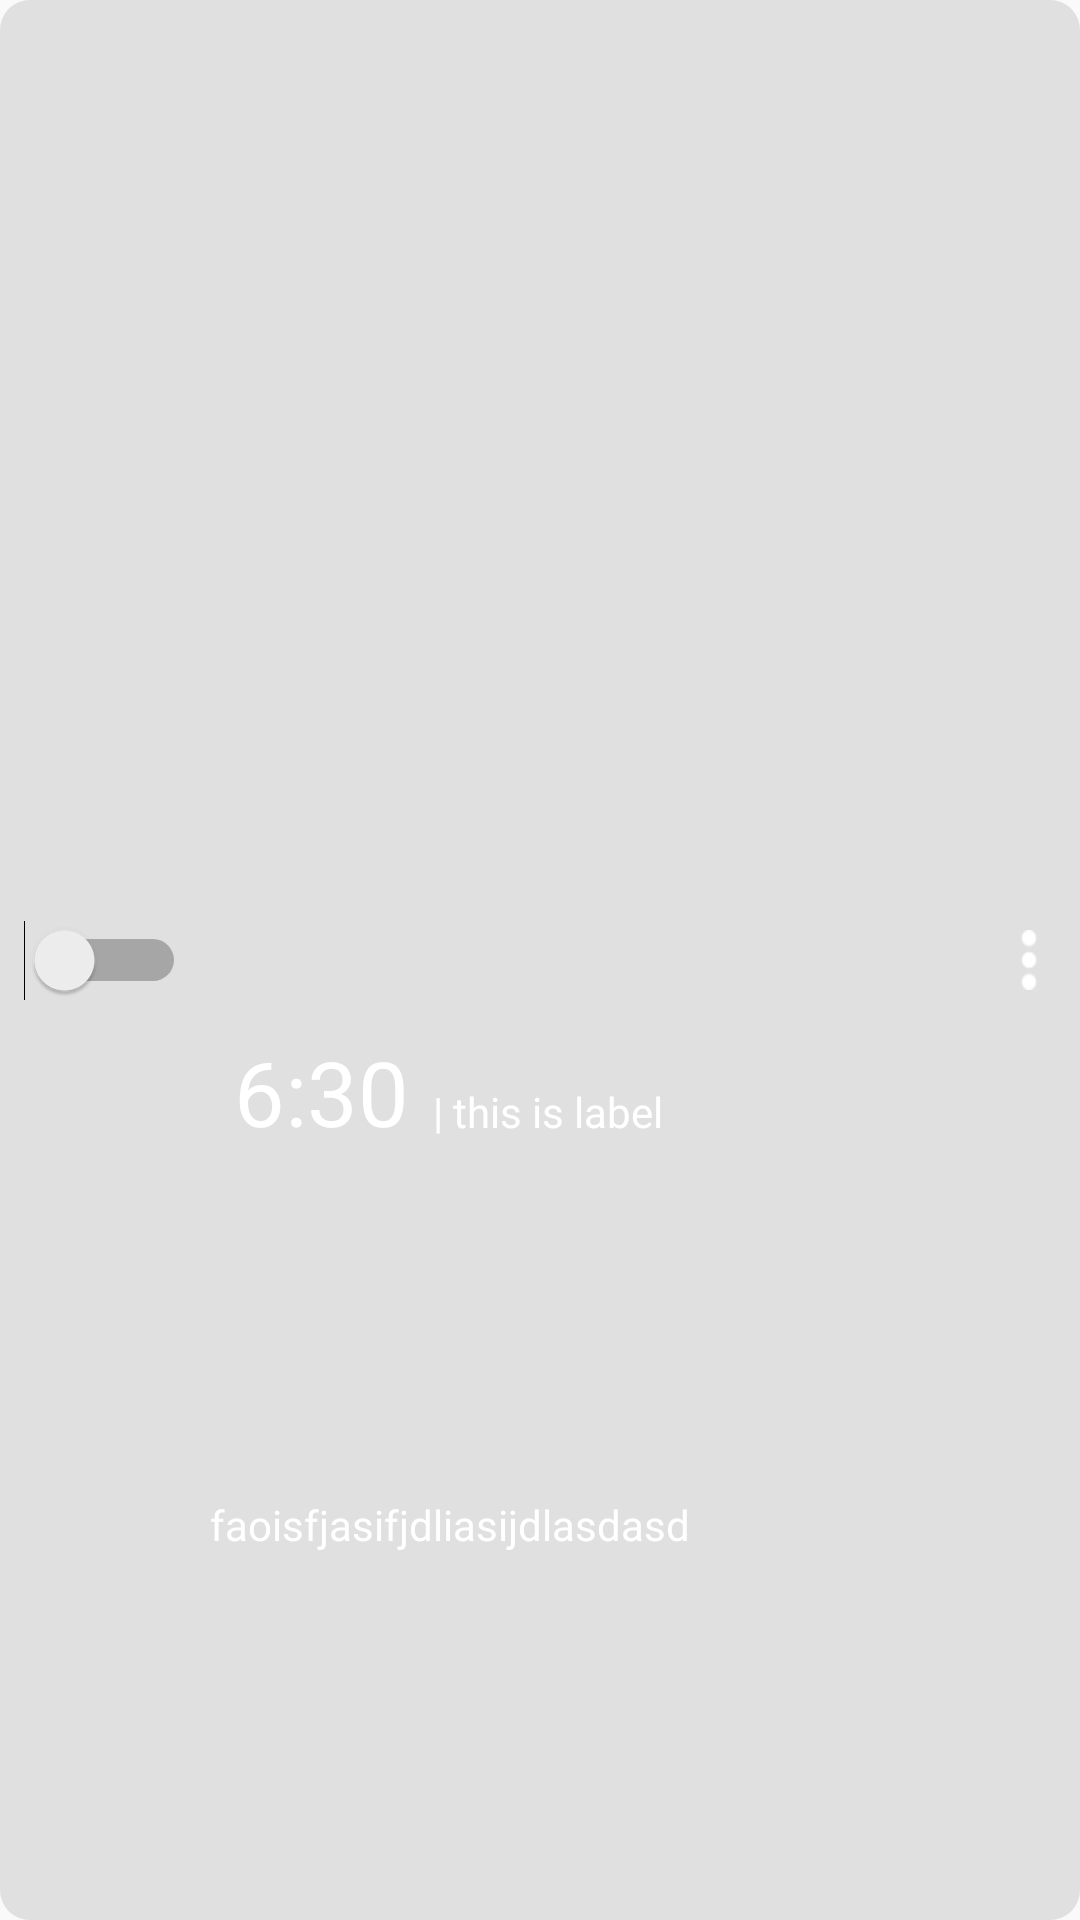

Screen size 1080 × 1920. Icon name, then its box in pixels as (x1, y1, x2, y2):
more: (1023, 930, 1035, 990)
